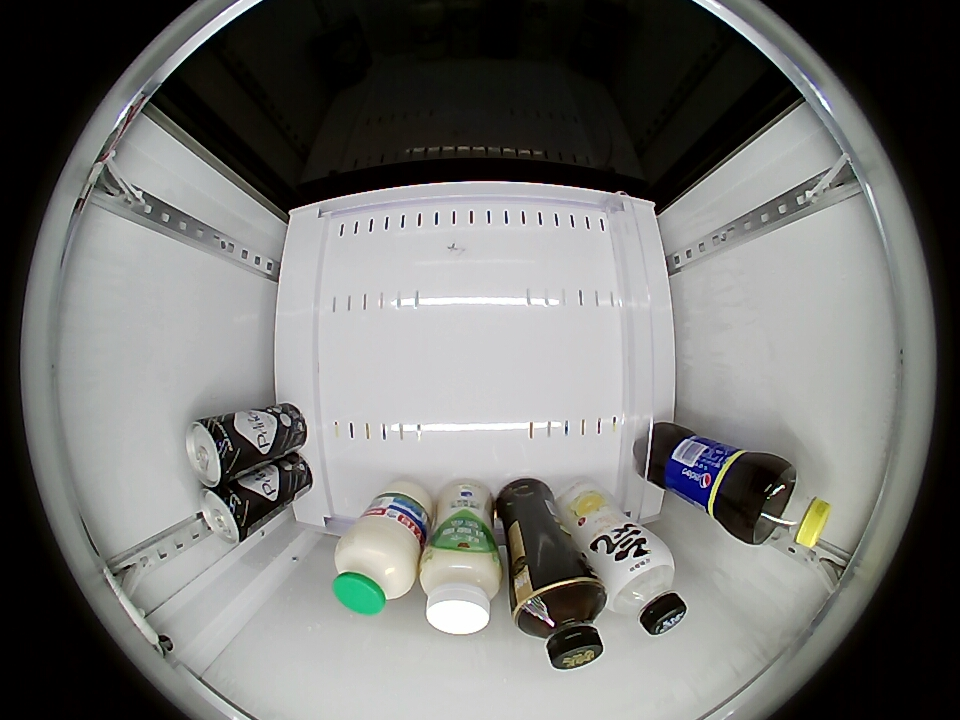baishikele: (744, 462, 833, 550)
liziyuan: (333, 517, 420, 616)
qingdaowangzi-1: (185, 413, 245, 487), (197, 485, 255, 544)
rancha-1: (513, 575, 606, 671)
yousuanru: (420, 543, 502, 635)
yuanqishui: (598, 539, 688, 635)
